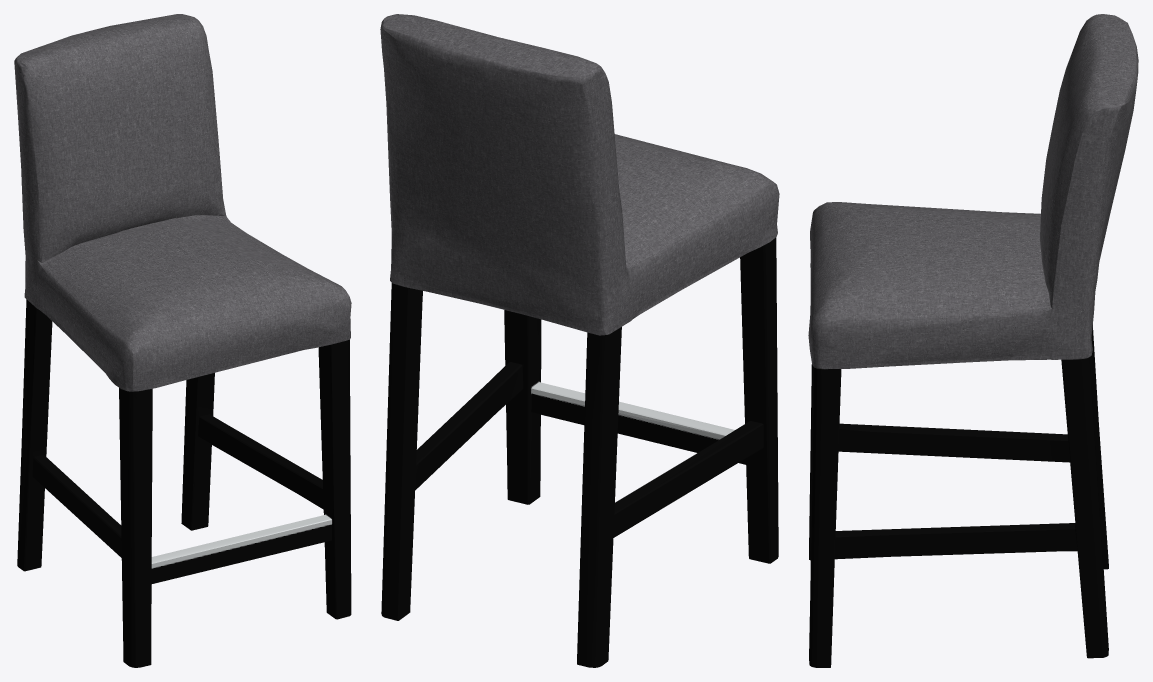
File: 12 - BERGMUND Bar stool with backrest - counter height blackGunnared medium grey 62 cm.glb
The picture shows the model from 3 angles, left to right: view 1: azimuth 30°, elevation 25°; view 2: azimuth 150°, elevation 25°; view 3: azimuth 270°, elevation 25°; orthographic projection. The views are drawn at different scales.
Visible parts, largest first — view 1: ProcessedMeshNode; view 2: ProcessedMeshNode; view 3: ProcessedMeshNode.
Boxes of the visible parts, x1=… form: ProcessedMeshNode: x1=14, y1=14, x2=351, y2=667; ProcessedMeshNode: x1=380, y1=14, x2=779, y2=667; ProcessedMeshNode: x1=808, y1=14, x2=1138, y2=667.
Size of the model in its own units: 0.4587 by 0.9783 by 0.5284.
1 material, 1 textured.
